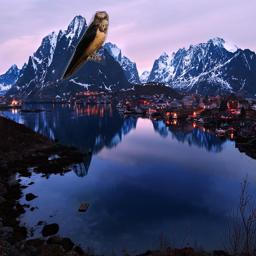Swallow: (61, 11, 109, 82)
